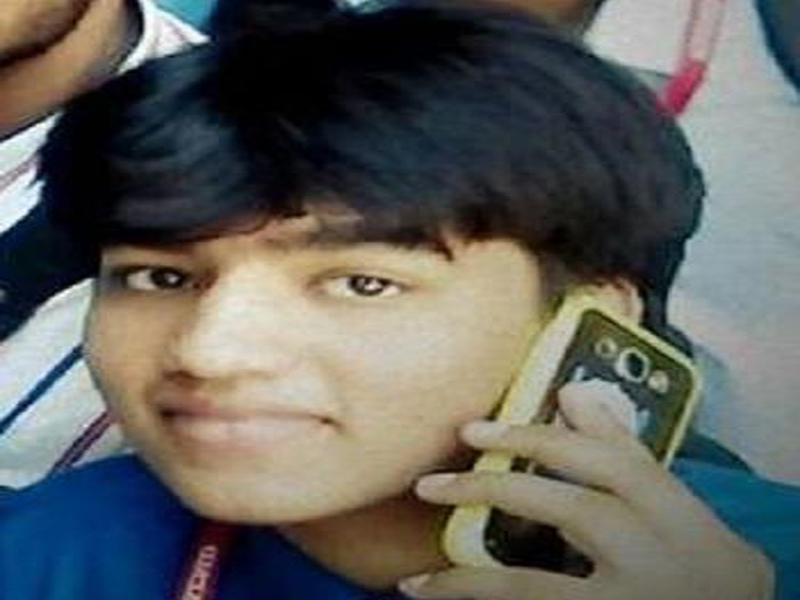without_mask: (83, 199, 510, 521)
